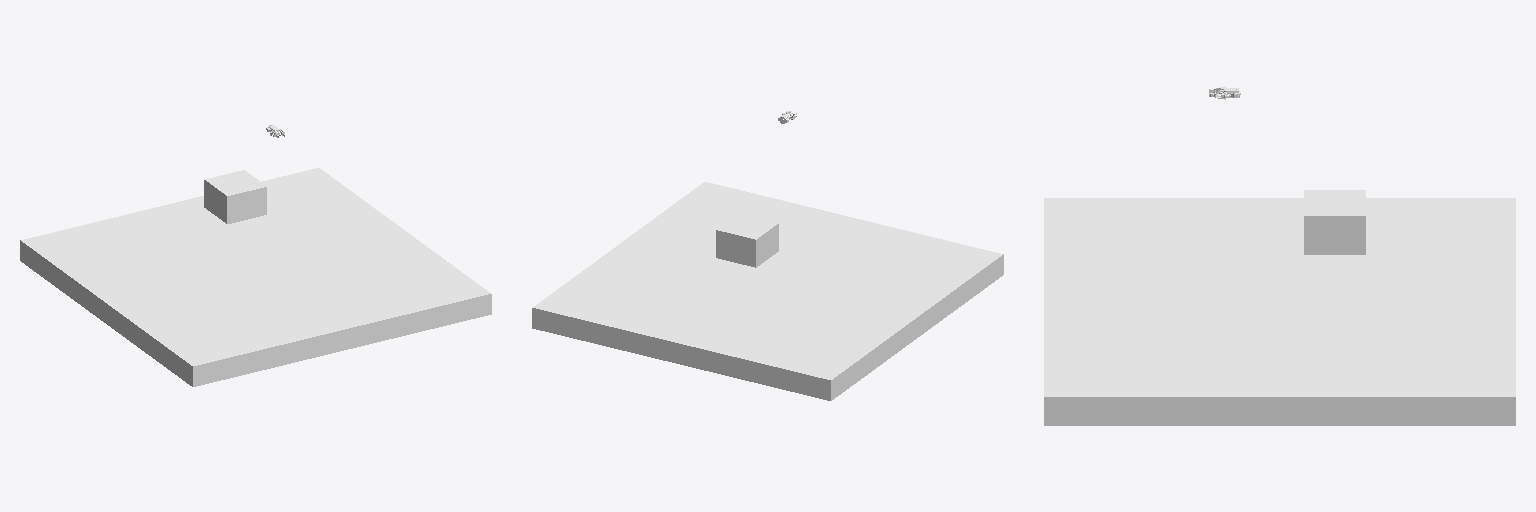
The robot description file, URDF, robot "cr5_robot":
<?xml version="1.0" encoding="utf-8"?>
<!-- This URDF was automatically created by SolidWorks to URDF Exporter! Originally created by [author] ([email redacted]) 
     Commit Version: 1.6.0-1-g15f4949  Build Version: 1.6.7594.29634
     For more information, please see http://wiki.ros.org/sw_urdf_exporter -->
<robot name="cr5_robot">
  <link name="dummy_link" />

  <link name="floor_model">
	<inertial>
	<origin xyz="0 0 0" rpy="0 0 0" />
	<mass value="0" />
	<inertia
	ixx="0"
	ixy="0"
	ixz="0"
	iyy="0"
	iyz="0"
	izz="0" />
    </inertial>
    <visual>
      <origin xyz="0 0 -0.49" rpy="0 0 0" />
      <geometry>
        <box size ="3 3 0.2" />
      </geometry>
      <material
        name="">
        <color rgba="1 1 1 1" />
      </material>
    </visual>
    <collision>
      <origin xyz="0 0 -0.49" rpy="0 0 0" />
      <geometry>
        <box size ="3 3 0.2" />
      </geometry>
    </collision>
  </link>
  
	<joint name="floor_joint" type="fixed">
		<parent link="dummy_link" />
		<child  link="floor_model" />
	</joint>

  <link name="control_box_model">
	<inertial>
	<origin xyz="0 0 0" rpy="0 0 0" />
	<mass value="0" />
	<inertia
	ixx="0"
	ixy="0"
	ixz="0"
	iyy="0"
	iyz="0"
	izz="0" />
    </inertial>
    <visual>
      <origin xyz="0 0.35 0.14" rpy="0 0 0" />
      <geometry>
        <box size ="0.4 0.4 0.27" />
      </geometry>
      <material
        name="">
        <color rgba="1 1 1 1" />
      </material>
    </visual>
    <collision>
      <origin xyz="0 0.35 0.14" rpy="0 0 0" />
      <geometry>
        <box size ="0.4 0.4 0.27" />
      </geometry>
    </collision>
  </link>
  
	<joint name="control_box_joint" type="fixed">
		<parent link="dummy_link" />
		<child  link="control_box_model" />
	</joint>

  <link name="bunker_sim_model">
	<inertial>
	<origin xyz="0 0 0" rpy="0 0 0" />
	<mass value="0" />
	<inertia
	ixx="0"
	ixy="0"
	ixz="0"
	iyy="0"
	iyz="0"
	izz="0" />
    </inertial>
    <visual>
      <origin xyz="-0.4 -0.25 -0.38" rpy="1.5708 0 1.5708" />
      <geometry>
        <mesh filename="package://dobot_description/meshes/bunker/BUNKER.STL" scale="0.001 0.001 0.001" />
      </geometry>
      <material
        name="">
        <color rgba="1 1 1 1" />
      </material>
    </visual>
    <collision>
      <origin xyz="-0.4 -0.25 -0.38" rpy="1.5708 0 1.5708" />
      <geometry>
        <mesh filename="package://dobot_description/meshes/bunker/BUNKER.STL" scale="0.001 0.001 0.001" />
      </geometry>
    </collision>
  </link>
  
	<joint name="bunker_joint" type="fixed">
		<parent link="dummy_link" />
		<child  link="bunker_sim_model" />
	</joint>
  
  <link name="base_link">
    <inertial>
      <origin xyz="-8.0961E-06 0.0019103 0.028995" rpy="0 0 0" />
      <mass value="0.90882" />
      <inertia
        ixx="0.0014545"
        ixy="4.2968E-08"
        ixz="-1.8199E-07"
        iyy="0.001345"
        iyz="-6.243E-06"
        izz="0.002155" />
    </inertial>
    <visual>
      <origin xyz="0 0 0" rpy="0 0 0" />
      <geometry>
        <mesh filename="package://dobot_description/meshes/cr5/base_link.dae" />
      </geometry>
      <material
        name="">
        <color rgba="0 0 0 1" />
      </material>
    </visual>
    <collision>
      <origin xyz="0 0 0" rpy="0 0 0" />
      <geometry>
        <mesh filename="package://dobot_description/meshes/cr5/base_link.dae" />
      </geometry>
    </collision>
  </link>

  <joint name="dummy_joint" type="fixed">
    <parent link="dummy_link" />
    <child  link="base_link" />
  </joint>


  <link  name="Link1">
    <inertial>
      <origin xyz="-8.7268E-07 -0.0032576 -0.0076748" rpy="0 0 0" />
      <mass value="1.6123" />
      <inertia
        ixx="0.0029122"
        ixy="5.7387E-09"
        ixz="1.9945E-08"
        iyy="0.0028191"
        iyz="0.00044094"
        izz="0.0032836" />
    </inertial>
    <visual>
      <origin xyz="0 0 0" rpy="0 0 0" />
      <geometry>
        <mesh filename="package://dobot_description/meshes/cr5/Link1.dae" />
      </geometry>
      <material
        name="">
        <color rgba="1 1 1 1" />
      </material>
    </visual>
    <collision>
      <origin xyz="0 0 0" rpy="0 0 0" />
      <geometry>
        <mesh filename="package://dobot_description/meshes/cr5/Link1.dae" />
      </geometry>
    </collision>
  </link>

  <joint name="joint1" type="revolute">
    <origin xyz="0 0 0.147" rpy="0 0 0" />
    <parent link="base_link" />
    <child link="Link1" />
    <axis xyz="0 0 1" />
    <limit lower="-3.14" upper="3.14" effort="0" velocity="0" />
  </joint>

  <link name="Link2">
    <inertial>
      <origin xyz="-0.21351 -1.3842E-06 0.14252" rpy="0 0 0" />
      <mass value="5.5186" />
      <inertia
        ixx="0.0085919"
        ixy="7.5552E-07"
        ixz="-7.8922E-07"
        iyy="0.027553"
        iyz="1.4629E-07"
        izz="0.028294" />
    </inertial>
    <visual>
      <origin xyz="0 0 0" rpy="0 0 0" />
      <geometry>
        <mesh filename="package://dobot_description/meshes/cr5/Link2.dae" />
      </geometry>
      <material
        name="">
        <color rgba="1 1 1 1" />
      </material>
    </visual>
    <collision>
      <origin xyz="0 0 0" rpy="0 0 0" />
      <geometry>
        <mesh filename="package://dobot_description/meshes/cr5/Link2.dae" />
      </geometry>
    </collision>
  </link>

  <joint name="joint2" type="revolute">
    <origin xyz="0 0 0" rpy="1.5708 1.5708 0" />
    <parent link="Link1" />
    <child  link="Link2" />
    <axis xyz="0 0 1" />
    <limit lower="-3.14" upper="3.14" effort="0" velocity="0" />
  </joint>

  <link name="Link3">
    <inertial>
      <origin xyz="-0.15231 -1.4079E-07 0.022693" rpy="0 0 0" />
      <mass value="2.8536" />
      <inertia
        ixx="0.0032608"
        ixy="-3.2147E-10"
        ixz="0.00012363"
        iyy="0.0092967"
        iyz="2.9478E-10"
        izz="0.0095552" />
    </inertial>
    <visual>
      <origin xyz="0 0 0" rpy="0 0 0" />
      <geometry>
        <mesh filename="package://dobot_description/meshes/cr5/Link3.dae" />
      </geometry>
      <material
        name="">
        <color rgba="1 1 1 1" />
      </material>
    </visual>
    <collision>
      <origin xyz="0 0 0"  rpy="0 0 0" />
      <geometry>
        <mesh filename="package://dobot_description/meshes/cr5/Link3.dae" />
      </geometry>
    </collision>
  </link>

  <joint name="joint3" type="revolute">
    <origin xyz="-0.427 0 0" rpy="0 0 0" />
    <parent link="Link2" />
    <child link="Link3" />
    <axis  xyz="0 0 1" />
    <limit lower="-2.86"  upper="2.86"  effort="0" velocity="0" />
  </joint>

  <link name="Link4">
    <inertial>
      <origin xyz="-3.2386E-07 -0.002077 -0.0015548" rpy="0 0 0" />
      <mass value="0.67058" />
      <inertia
        ixx="0.00066939"
        ixy="4.1975E-10"
        ixz="-1.0734E-08"
        iyy="0.00065424"
        iyz="0.00011081"
        izz="0.00065365" />
    </inertial>
    <visual>
      <origin xyz="0 0 0" rpy="0 0 0" />
      <geometry>
        <mesh filename="package://dobot_description/meshes/cr5/Link4.dae" />
      </geometry>
      <material name="">
        <color rgba="1 1 1 1" />
      </material>
    </visual>
    <collision>
      <origin xyz="0 0 0" rpy="0 0 0" />
      <geometry>
        <mesh filename="package://dobot_description/meshes/cr5/Link4.dae" />
      </geometry>
    </collision>
  </link>

  <joint name="joint4" type="revolute">
    <origin xyz="-0.357 0 0.141" rpy="0 0 -1.5708" />
    <parent link="Link3" />
    <child link="Link4" />
    <axis xyz="0 0 1" />
    <limit lower="-3.14" upper="3.14" effort="0" velocity="0" />
  </joint>
  <link
    name="Link5">
    <inertial>
      <origin xyz="-3.7738E-07 -0.0045777 -0.0012971" rpy="0 0 0" />
      <mass value="0.7269" />
      <inertia
        ixx="0.00073069"
        ixy="-5.7806E-09"
        ixz="6.7132E-09"
        iyy="0.00071195"
        iyz="-0.00011926"
        izz="0.00071391" />
    </inertial>
    <visual>
      <origin xyz="0 0 0" rpy="0 0 0" />
      <geometry>
        <mesh filename="package://dobot_description/meshes/cr5/Link5.dae" />
      </geometry>
      <material name="">
        <color rgba="1 1 1 1" />
      </material>
    </visual>
    <collision>
      <origin xyz="0 0 0" rpy="0 0 0" />
      <geometry>
        <mesh filename="package://dobot_description/meshes/cr5/Link5.dae" />
      </geometry>
    </collision>
  </link>

  <joint name="joint5" type="revolute">
    <origin xyz="0 -0.116 0" rpy="1.5708 0 0" />
    <parent link="Link4" />
    <child link="Link5" />
    <axis xyz="0 0 1" />
    <limit lower="-3.14" upper="3.14" effort="0" velocity="0" />
  </joint>

  <link name="Link6">
    <inertial>
      <origin xyz="5.0777E-11 9.3774E-05 -0.019285" rpy="0 0 0" />
      <mass value="0.15789" />
      <inertia
        ixx="7.8045E-05"
        ixy="6.1582E-15"
        ixz="6.2471E-14"
        iyy="7.9168E-05"
        iyz="-1.3822E-07"
        izz="0.00012951" />
    </inertial>
    <visual>
      <origin xyz="0 0 0" rpy="0 0 0" />
      <geometry>
        <mesh filename="package://dobot_description/meshes/cr5/Link6.dae" />
      </geometry>
      <material name="">
        <color rgba="1 1 1 1" />
      </material>
    </visual>
    <collision>
      <origin xyz="0 0 0" rpy="0 0 0" />
      <geometry>
        <mesh filename="package://dobot_description/meshes/cr5/Link6.dae" />
      </geometry>
    </collision>
  </link>
  
  <joint name="joint6" type="revolute">
    <origin xyz="0 0.105 0"  rpy="-1.5708 0 0" />
    <parent link="Link5" />
    <child link="Link6" />
    <axis xyz="0 0 1" />
    <limit lower="-6.28" upper="6.28" effort="0" velocity="0" />
  </joint>
  
  <link name="eef_link">
    <inertial>
      <origin xyz="0 0 0" rpy="1.5708 0 0" />
      <mass value="1" />
      <inertia
        ixx="0"
        ixy="0"
        ixz="0"
        iyy="0"
        iyz="0"
        izz="0" />
    </inertial>
    <visual>
      <origin xyz="0 0 0.009" rpy="1.5708 0 0" />
      <geometry>
        <mesh filename="package://dobot_description/meshes/eef/AG-95 GRIPPER v0.stl" scale="0.001 0.001 0.001"/>
      </geometry>
      <material name="">
        <color rgba="1 1 1 1" />
      </material>
    </visual>
    <collision>
      <origin xyz="0 0 0.009" rpy="1.5708 0 0" />
      <geometry>
        <mesh filename="package://dobot_description/meshes/eef/AG-95 GRIPPER v0.stl" scale="0.001 0.001 0.001"/>
      </geometry>
    </collision>
  </link>
  
  <joint name="eef" type="fixed">
    <origin xyz="0 0.0 0"  rpy="0 0 0" />
    <parent link="Link6" />
    <child link="eef_link" />
    <axis xyz="0 0 1" />
  </joint>
  
  <link name="cam_holder_link">
    <inertial>
      <origin xyz="0 0 0" rpy="1.5708 0 0" />
      <mass value="1" />
      <inertia
        ixx="0"
        ixy="0"
        ixz="0"
        iyy="0"
        iyz="0"
        izz="0" />
    </inertial>
    <visual>
      <origin xyz="0 0 0.001" rpy="1.5708 0 3.1416" />
      <geometry>
        <mesh filename="package://dobot_description/meshes/eef/cam_holder.stl" scale="0.001 0.001 0.001"/>
      </geometry>
      <material name="">
        <color rgba="1 1 1 1" />
      </material>
    </visual>
    <collision>
      <origin xyz="0 0 0.001" rpy="1.5708 0 3.1416" />
      <geometry>
        <mesh filename="package://dobot_description/meshes/eef/cam_holder.stl" scale="0.001 0.001 0.001"/>
      </geometry>
    </collision>
  </link>
  
  <joint name="cam_holder" type="fixed">
    <origin xyz="0 0.0 0"  rpy="0 0 0" />
    <parent link="Link6" />
    <child link="cam_holder_link" />
    <axis xyz="0 0 1" />
  </joint>

</robot>

--- What the picture shows (computed from the rendered views, not written in the file) ---
3 views of the same robot in one strip: view 1: azimuth 30°, elevation 25°; view 2: azimuth 150°, elevation 25°; view 3: azimuth 270°, elevation 25° (orthographic).
Robot: cr5_robot — 13 links, 12 joints (6 revolute, 6 fixed); root link dummy_link; default pose: all joints at 0.
Links seen in each view (by area): view 1: floor_model, control_box_model; view 2: floor_model, control_box_model; view 3: floor_model, control_box_model.
Boxes of the visible links, <box> form: floor_model: <box>20,168,491,386</box>; control_box_model: <box>204,170,266,223</box>; floor_model: <box>532,182,1003,400</box>; control_box_model: <box>716,213,778,267</box>; floor_model: <box>1044,198,1515,425</box>; control_box_model: <box>1304,190,1365,254</box>.
Size in the robot's own frame: 3 by 3 by 1.67 metres.
1 mesh visuals loaded from 10 distinct referenced files (1 binary STL); not drawn: 9 (reference not matched to a file when rendering).